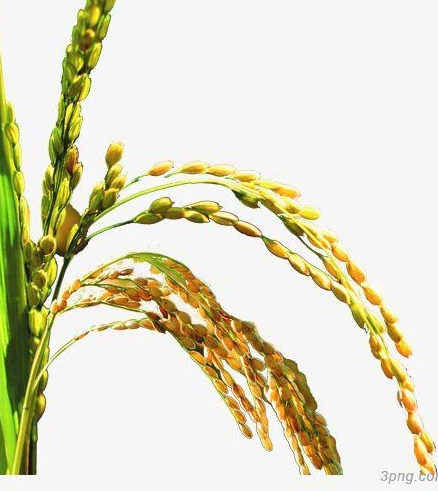rice: (91, 139, 438, 468), (62, 251, 341, 477)
